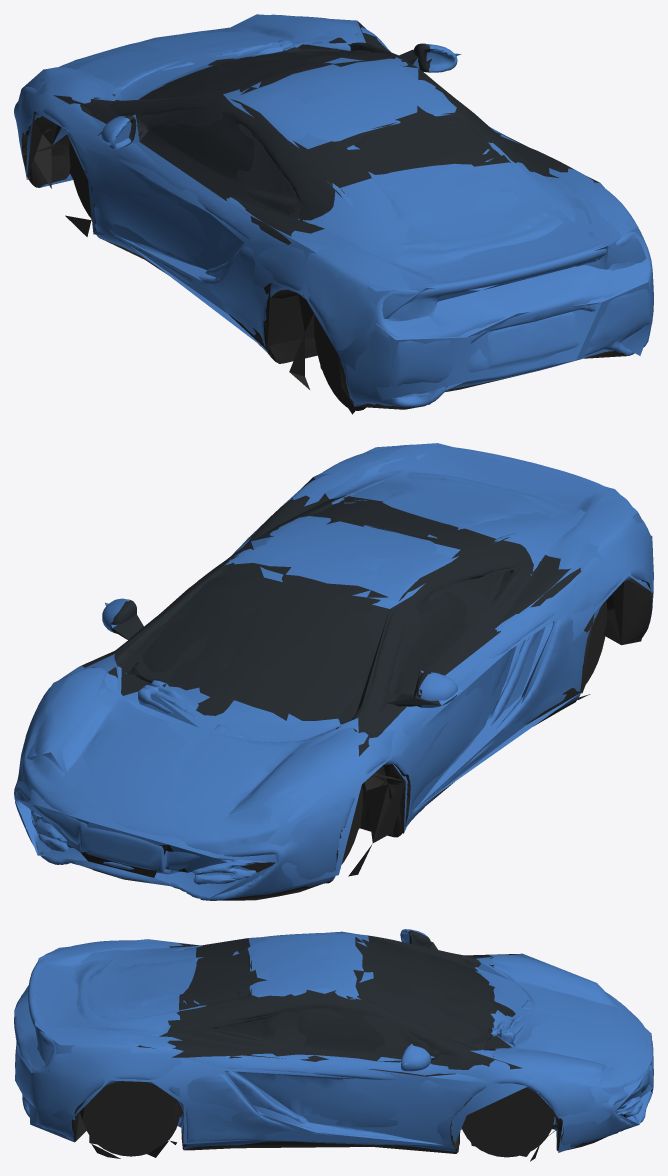
File: mclaren-mp4-12c-spider.glb
3 renders of one model, top to bottom at view 1: azimuth 30°, elevation 25°; view 2: azimuth 150°, elevation 25°; view 3: azimuth 270°, elevation 25°, orthographic. The views are drawn at different scales.
Visible parts, largest first — view 1: body, far; view 2: body, far; view 3: body, far.
Part boxes in pixels (box(x1,y1,x2,y2)): body: box(14, 14, 653, 410); far: box(16, 14, 652, 414); body: box(14, 444, 653, 900); far: box(14, 443, 653, 897); body: box(14, 929, 653, 1161); far: box(14, 931, 653, 1157).
Bounding box in the file's own units: 2.26 × 1.25 × 4.57.
